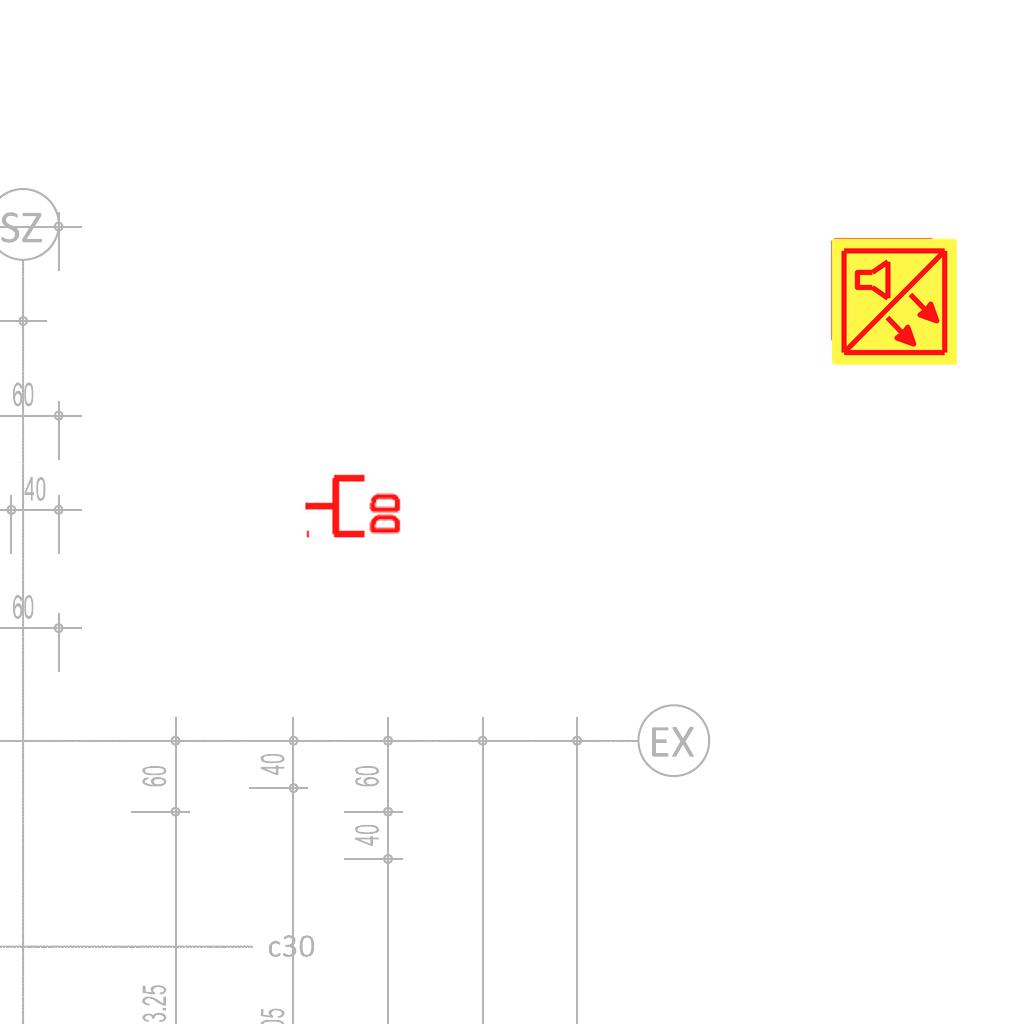Datenanschluss_zweifach: (302, 470, 405, 539)
OKW_Multisensormelder_(Kombination_optischer_Rauch-Kahlenmonoxid_Waerme-Melder): (828, 236, 960, 368)
